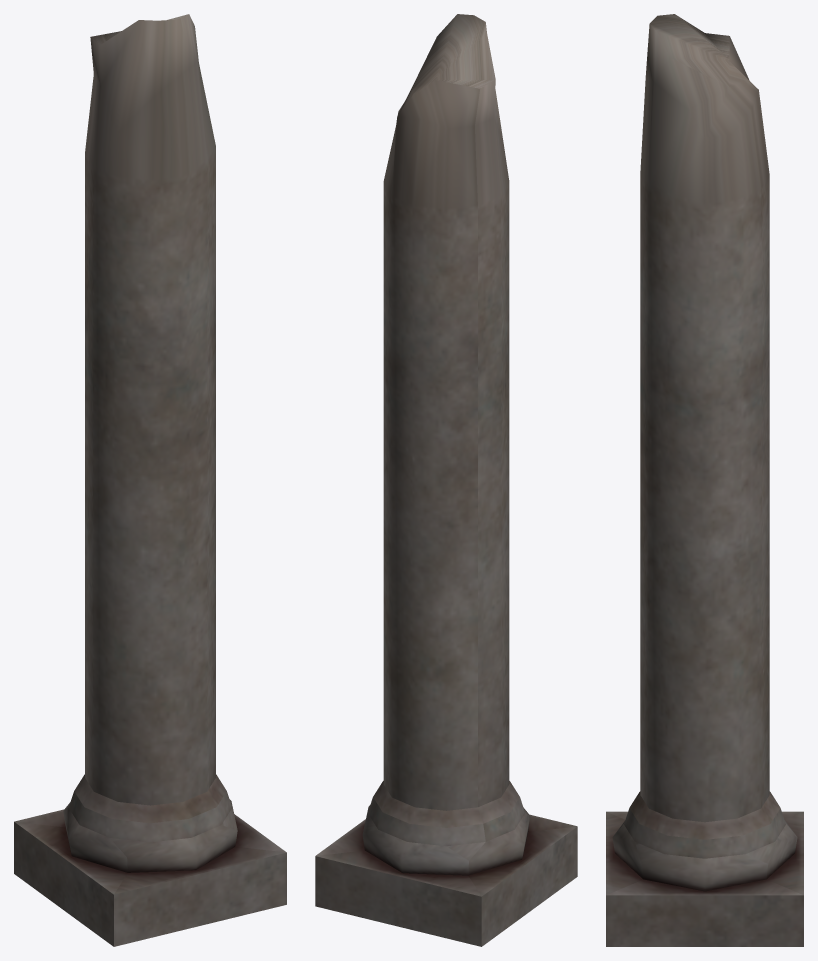
The model's file is sb_obj_outdoor009_AncientTemple_pillar03B_col.fbx.
The picture shows the model from 3 angles, left to right: view 1: azimuth 30°, elevation 25°; view 2: azimuth 150°, elevation 25°; view 3: azimuth 270°, elevation 25°; orthographic projection. The views are drawn at different scales.
Parts seen in each view (by area): view 1: sb_obj_outdoor009_AncientTemple_pillar03B_col; view 2: sb_obj_outdoor009_AncientTemple_pillar03B_col; view 3: sb_obj_outdoor009_AncientTemple_pillar03B_col.
Boxes of the visible parts, <box> form: sb_obj_outdoor009_AncientTemple_pillar03B_col: <box>14,14,286,946</box>; sb_obj_outdoor009_AncientTemple_pillar03B_col: <box>315,14,577,946</box>; sb_obj_outdoor009_AncientTemple_pillar03B_col: <box>606,14,803,946</box>.
Bounding box in the file's own units: 1.04 × 5.12 × 1.04.
